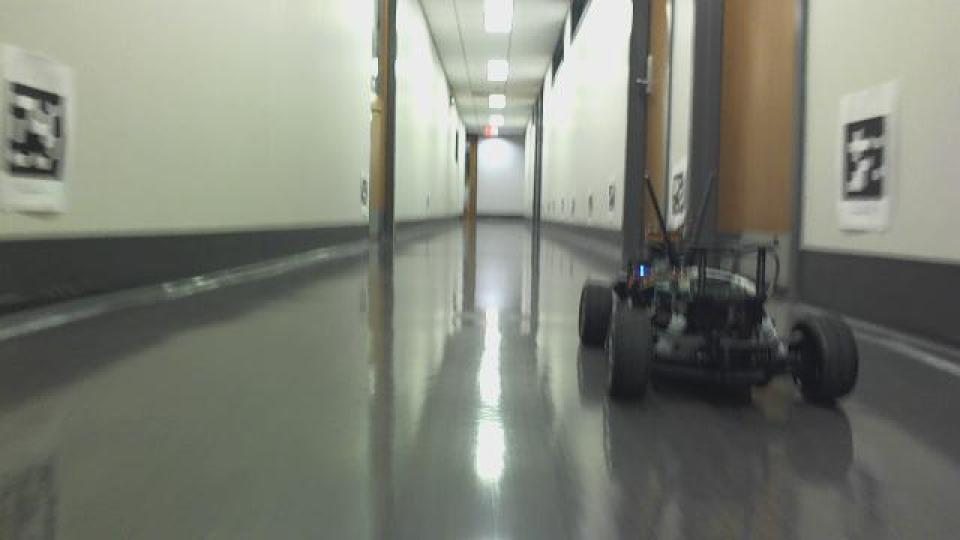car: (573, 168, 861, 410)
